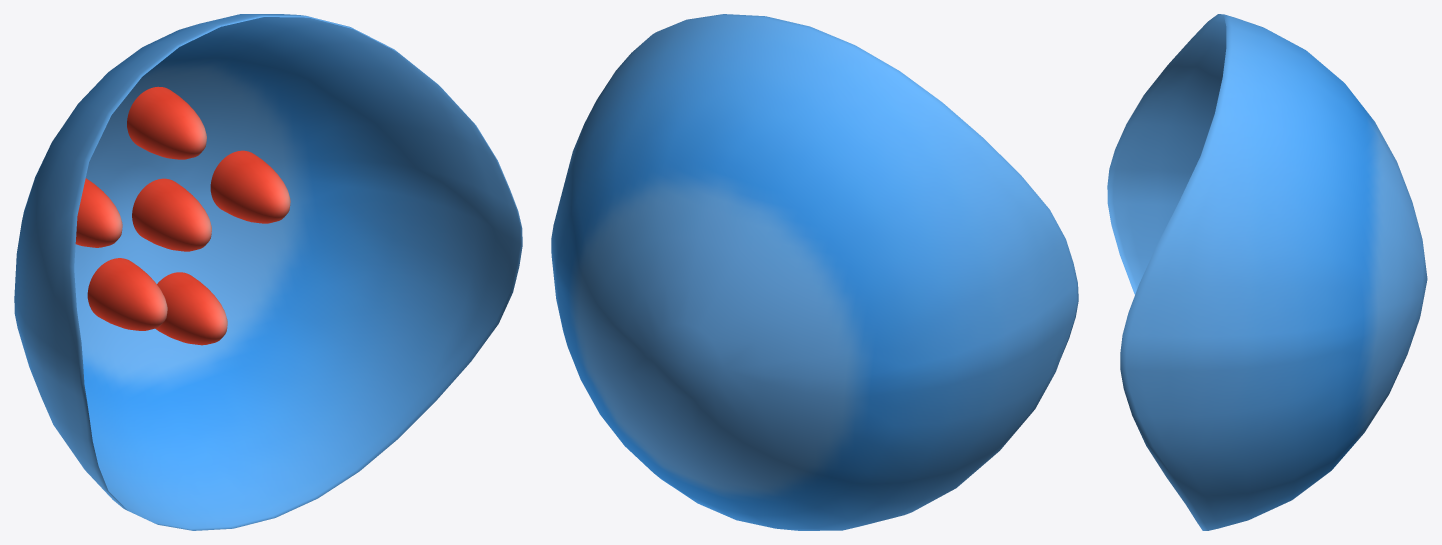
Rendered from AnimalCell-Lysosome.fbx.
3 views of the same model, side by side, from view 1: azimuth 30°, elevation 25°; view 2: azimuth 150°, elevation 25°; view 3: azimuth 270°, elevation 25° (orthographic). The views are drawn at different scales.
Visible parts, largest first — view 1: polySurface410; view 2: polySurface410; view 3: polySurface410.
Part boxes in pixels (x1,y1,x2,y2): polySurface410: [14, 14, 522, 530]; polySurface410: [551, 14, 1078, 530]; polySurface410: [1107, 14, 1427, 530].
Bounding box in the file's own units: 1.82 × 1.92 × 1.18.
1 material, 1 textured.
